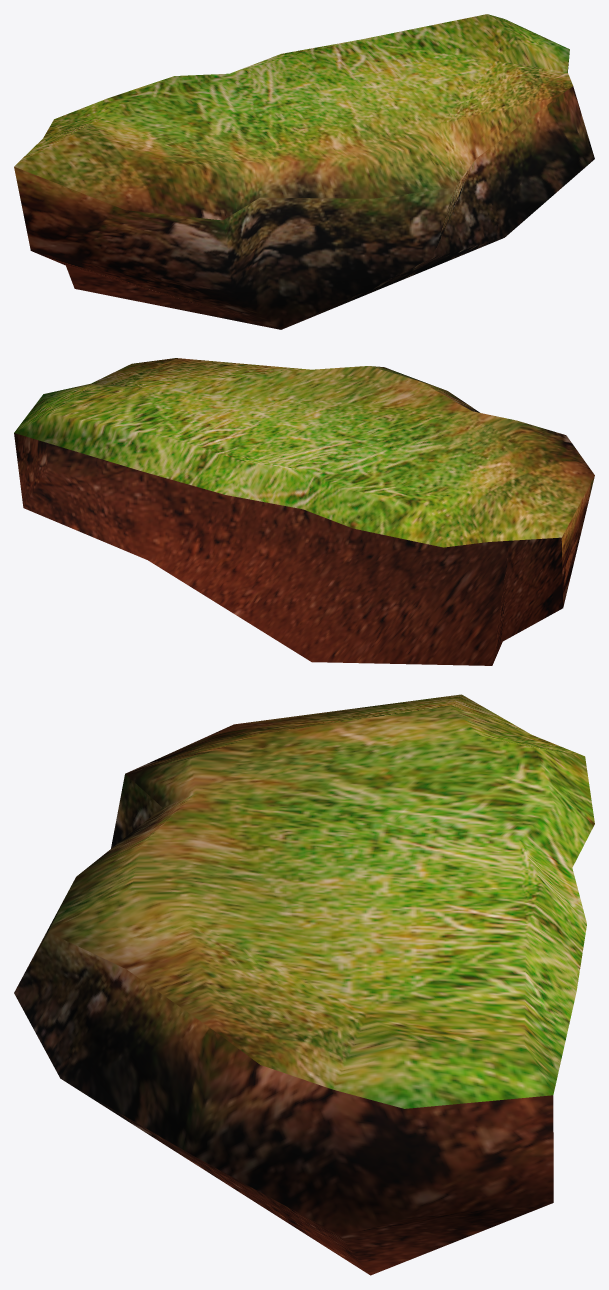
Rendered from platform00.FBX.
3 views of the same model, one above another, from view 1: azimuth 30°, elevation 25°; view 2: azimuth 150°, elevation 25°; view 3: azimuth 270°, elevation 25° (orthographic). The views are drawn at different scales.
Parts seen in each view (by area): view 1: platform00; view 2: platform00; view 3: platform00.
Boxes of the visible parts, x1=… form: platform00: x1=14, y1=14, x2=594, y2=329; platform00: x1=14, y1=358, x2=594, y2=665; platform00: x1=14, y1=694, x2=594, y2=1275.
Size of the model in its own units: 2.97 by 1.08 by 1.76.
